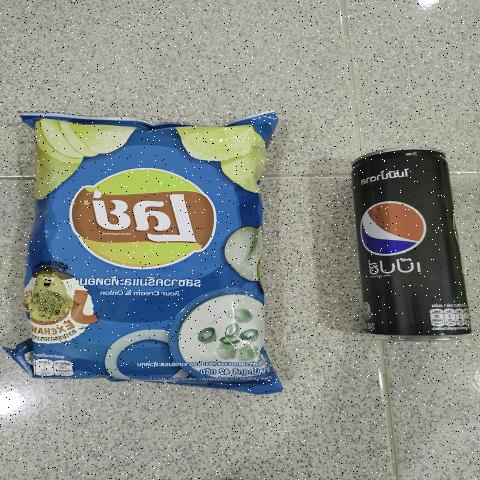lay_blue: (39, 123, 262, 385)
pepsi_black: (364, 147, 448, 337)
